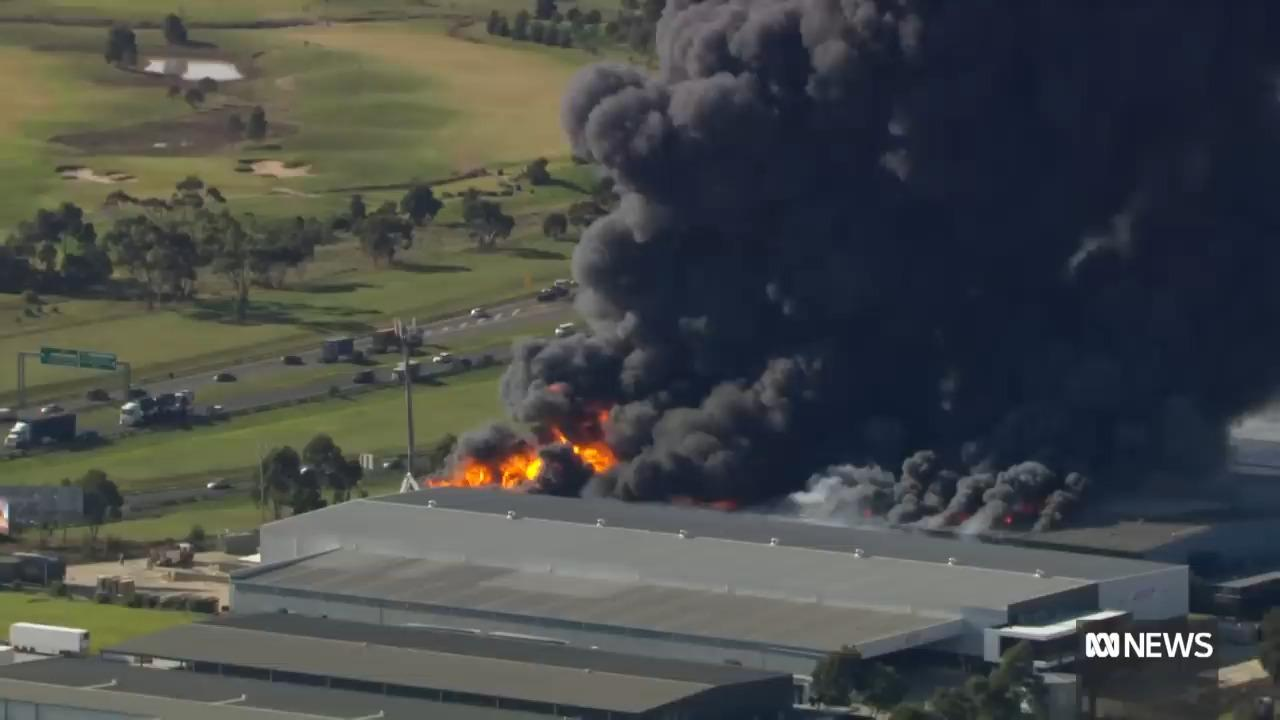fire: (460, 453, 556, 496), (557, 427, 622, 475)
